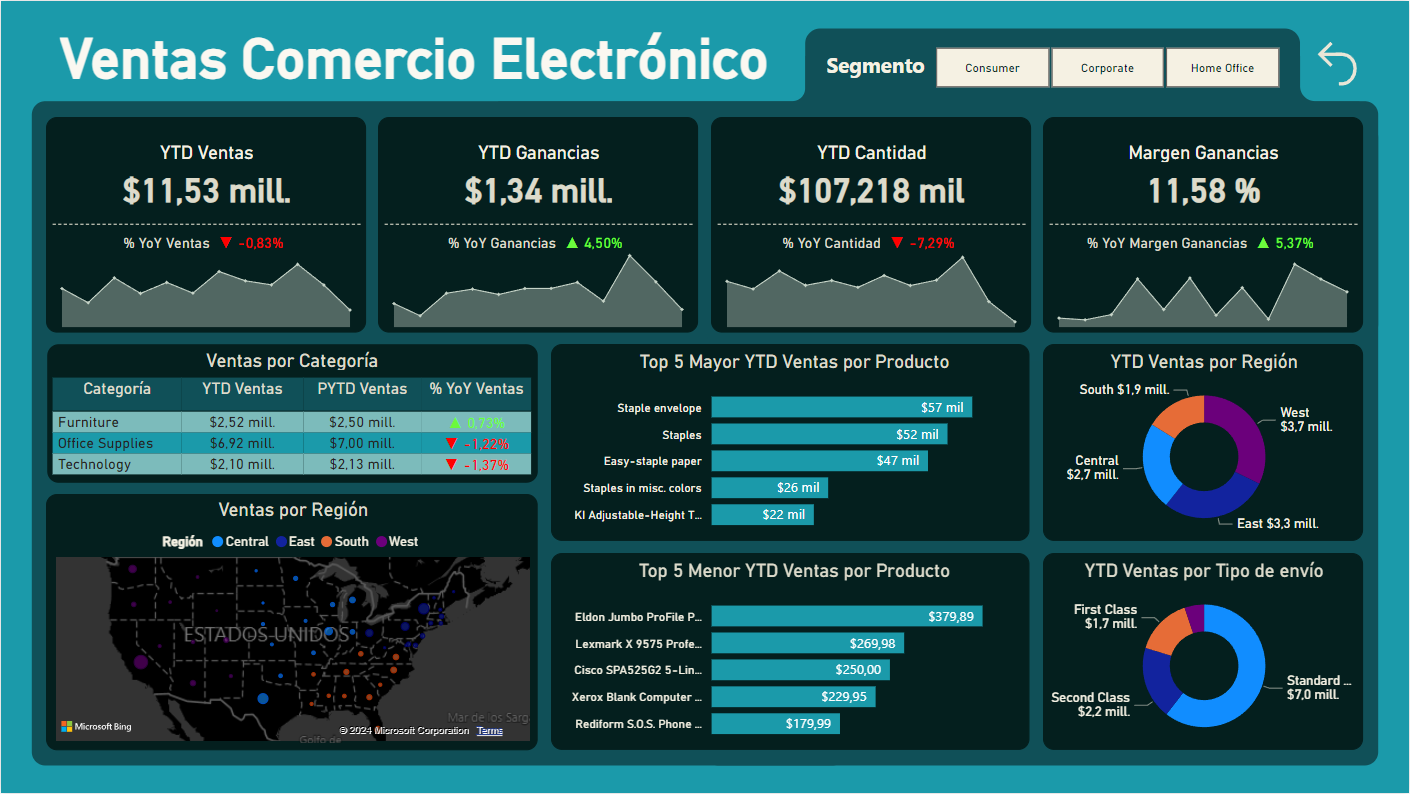

This screenshot's page, from the dashboard's own definition file:
{"tool":"powerbi","page":{"name":"Página 1","canvas":[1280,720],"ordinal":0},"visuals":[{"type":"cardVisual","fields":{"Data":["Medidas DAX.CY Sales"]},"box":[40.9,105.5,290.9,196.4],"z":0},{"type":"tableEx","title":"Ventas por Categoría","fields":{"Values":["ecommerce_data.category_name","Medidas DAX.YTD Sales","Medidas DAX.PYTD Sales","Medidas DAX.% YoY Sales CONDICIONAL"]},"box":[40.9,316.4,447.3,139.1],"z":1000},{"type":"areaChart","fields":{"Y":["Medidas DAX.Sales per order DAX"],"Category":["Dim_Calendar DAX.Mes"]},"box":[40.9,215.5,290.9,86.4],"z":2000},{"type":"map","title":"Ventas por Región","fields":{"Y":["us_state_long_lat_codes.latitude"],"X":["us_state_long_lat_codes.longitude"],"Size":["Medidas DAX.YTD Sales"],"Series":["ecommerce_data.customer_region"]},"box":[40.9,448.2,447.3,232.7],"z":3000},{"type":"cardVisual","fields":{"Data":["Medidas DAX.YTD Profit"]},"box":[343,105.5,290.9,196.4],"z":4000},{"type":"clusteredBarChart","title":"Top 5 Mayor YTD Ventas por Producto","fields":{"Y":["Medidas DAX.YTD Sales"],"Category":["ecommerce_data.product_name"]},"box":[500,311.8,435.5,179.1],"z":5000},{"type":"areaChart","fields":{"Y":["Medidas DAX.Profit per order DAX"],"Category":["Dim_Calendar DAX.Mes"]},"box":[342.7,215.5,290.9,86.4],"z":6000},{"type":"clusteredBarChart","title":"Top 5 Menor YTD Ventas por Producto","fields":{"Y":["Medidas DAX.YTD Sales"],"Category":["ecommerce_data.product_name"]},"box":[500,501.8,435.5,179.1],"z":7000},{"type":"cardVisual","fields":{"Data":["Medidas DAX.YTD Quantity"]},"box":[645.2,105.5,290.9,196.4],"z":8000},{"type":"donutChart","title":"YTD Ventas por Región","fields":{"Y":["Medidas DAX.YTD Sales"],"Category":["ecommerce_data.customer_region"]},"box":[947.3,312.3,290.9,179.1],"z":9000},{"type":"areaChart","fields":{"Y":["Medidas DAX.Quantity per order DAX"],"Category":["Dim_Calendar DAX.Mes"]},"box":[645.5,215.5,290.9,86.4],"z":10000},{"type":"donutChart","title":"YTD Ventas por Tipo de envío","fields":{"Y":["Medidas DAX.YTD Sales"],"Category":["ecommerce_data.shipping_type"]},"box":[947.3,501.8,290.9,179.1],"z":11000},{"type":"cardVisual","fields":{"Data":["Medidas DAX.Profit Margin DAX"]},"box":[947.3,105.5,290.9,196.4],"z":12000},{"type":"slicer","fields":{"Values":["ecommerce_data.customer_segment"]},"box":[829.1,35.5,351.8,50],"z":13000,"group":"g1"},{"type":"areaChart","fields":{"Category":["Dim_Calendar DAX.Mes"],"Y":["Medidas DAX.Profit Margin DAX"]},"box":[947.3,215.5,290.9,86.4],"z":13000},{"type":"actionButton","box":[1189.1,30.9,57.3,51.8],"z":14000},{"type":"textbox","box":[47.9,18.6,672.1,73.6],"z":15000},{"type":"textbox","box":[745.5,40,139.1,40.9],"z":16000,"group":"g1"},{"type":"group","id":"g1","title":"Grupo 1","box":[745.5,35.5,435.5,50],"z":16000}]}

Visuals, with their boxes in screenshot pixels (x1, y1, x2, y2), scaled from the page's 1280x720 canvas onto the 1410x794 screenshot:
cardVisual - Medidas DAX.CY Sales: x1=45 y1=116 x2=365 y2=333
"Ventas por Categoría" tableEx: x1=45 y1=349 x2=538 y2=502
areaChart - Medidas DAX.Sales per order DAX x Dim_Calendar DAX.Mes: x1=45 y1=238 x2=365 y2=333
"Ventas por Región" map: x1=45 y1=494 x2=538 y2=751
cardVisual - Medidas DAX.YTD Profit: x1=378 y1=116 x2=698 y2=333
"Top 5 Mayor YTD Ventas por Producto" clusteredBarChart: x1=551 y1=344 x2=1031 y2=541
areaChart - Medidas DAX.Profit per order DAX x Dim_Calendar DAX.Mes: x1=378 y1=238 x2=698 y2=333
"Top 5 Menor YTD Ventas por Producto" clusteredBarChart: x1=551 y1=553 x2=1031 y2=751
cardVisual - Medidas DAX.YTD Quantity: x1=711 y1=116 x2=1031 y2=333
"YTD Ventas por Región" donutChart: x1=1044 y1=344 x2=1364 y2=542
areaChart - Medidas DAX.Quantity per order DAX x Dim_Calendar DAX.Mes: x1=711 y1=238 x2=1032 y2=333
"YTD Ventas por Tipo de envío" donutChart: x1=1044 y1=553 x2=1364 y2=751
cardVisual - Medidas DAX.Profit Margin DAX: x1=1044 y1=116 x2=1364 y2=333
slicer - ecommerce_data.customer_segment: x1=913 y1=39 x2=1301 y2=94
areaChart - Dim_Calendar DAX.Mes x Medidas DAX.Profit Margin DAX: x1=1044 y1=238 x2=1364 y2=333
actionButton: x1=1310 y1=34 x2=1373 y2=91
textbox: x1=53 y1=21 x2=793 y2=102
textbox: x1=821 y1=44 x2=974 y2=89
"Grupo 1" group: x1=821 y1=39 x2=1301 y2=94
